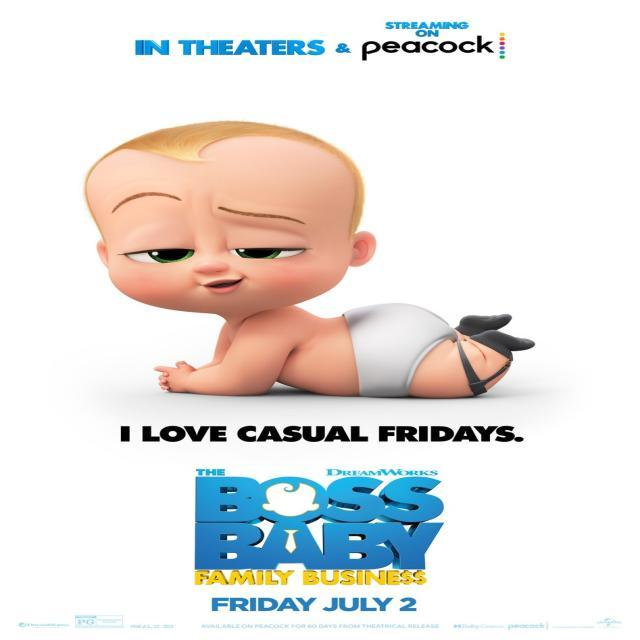non-dog: (76, 113, 534, 401)
